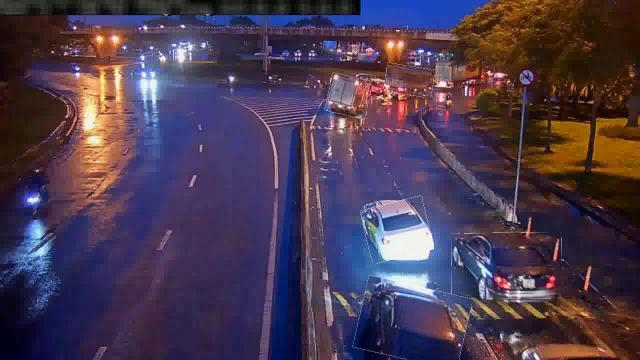Car: (356, 280, 469, 360), (451, 232, 562, 300), (362, 199, 432, 261)
Truck: (326, 75, 372, 117), (385, 64, 435, 96)
